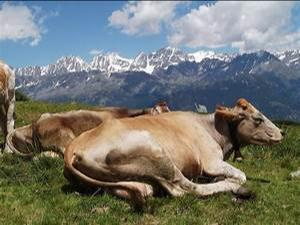cow: (62, 96, 285, 211), (0, 60, 16, 153)
